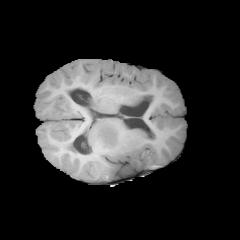glioma: (94, 121, 121, 149)
